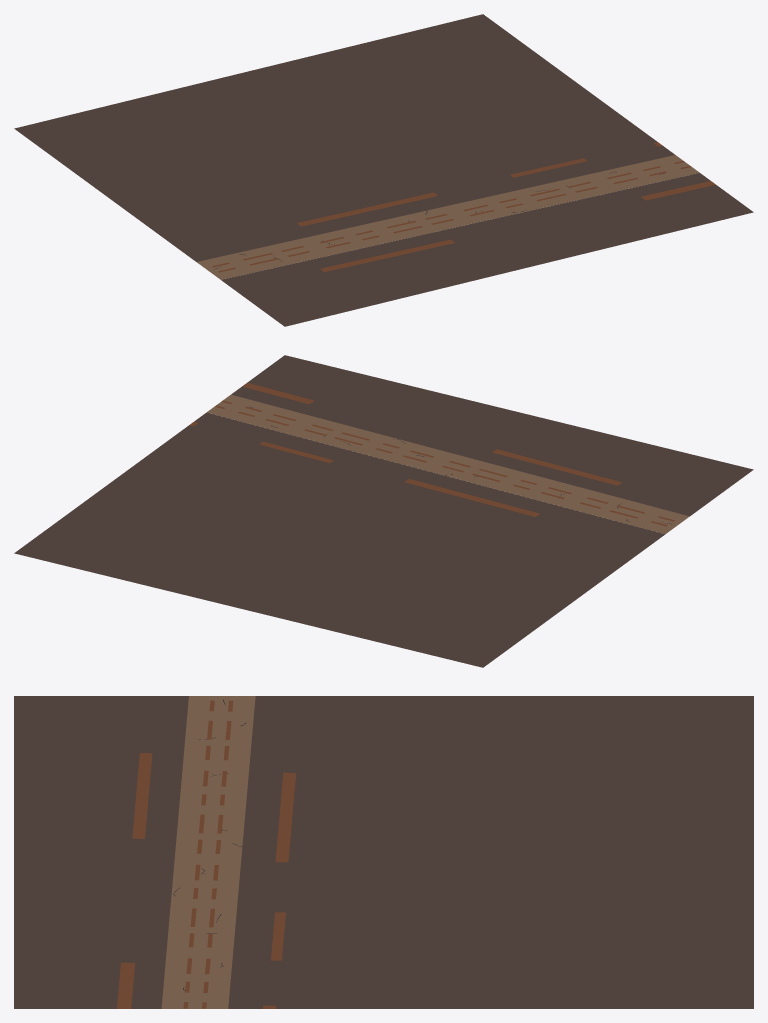
File: crossing-4-3.glb
3 renders of one model, top to bottom at view 1: azimuth 30°, elevation 25°; view 2: azimuth 150°, elevation 25°; view 3: azimuth 270°, elevation 25°, orthographic. The views are drawn at different scales.
Parts seen in each view (by area): view 1: crossing-4-3; view 2: crossing-4-3; view 3: crossing-4-3.
Part boxes in pixels (x1=…): crossing-4-3: x1=14, y1=14, x2=753, y2=326; crossing-4-3: x1=14, y1=355, x2=753, y2=667; crossing-4-3: x1=14, y1=696, x2=753, y2=1008.
Size of the model in its own units: 100 by 0.0135 by 100.
